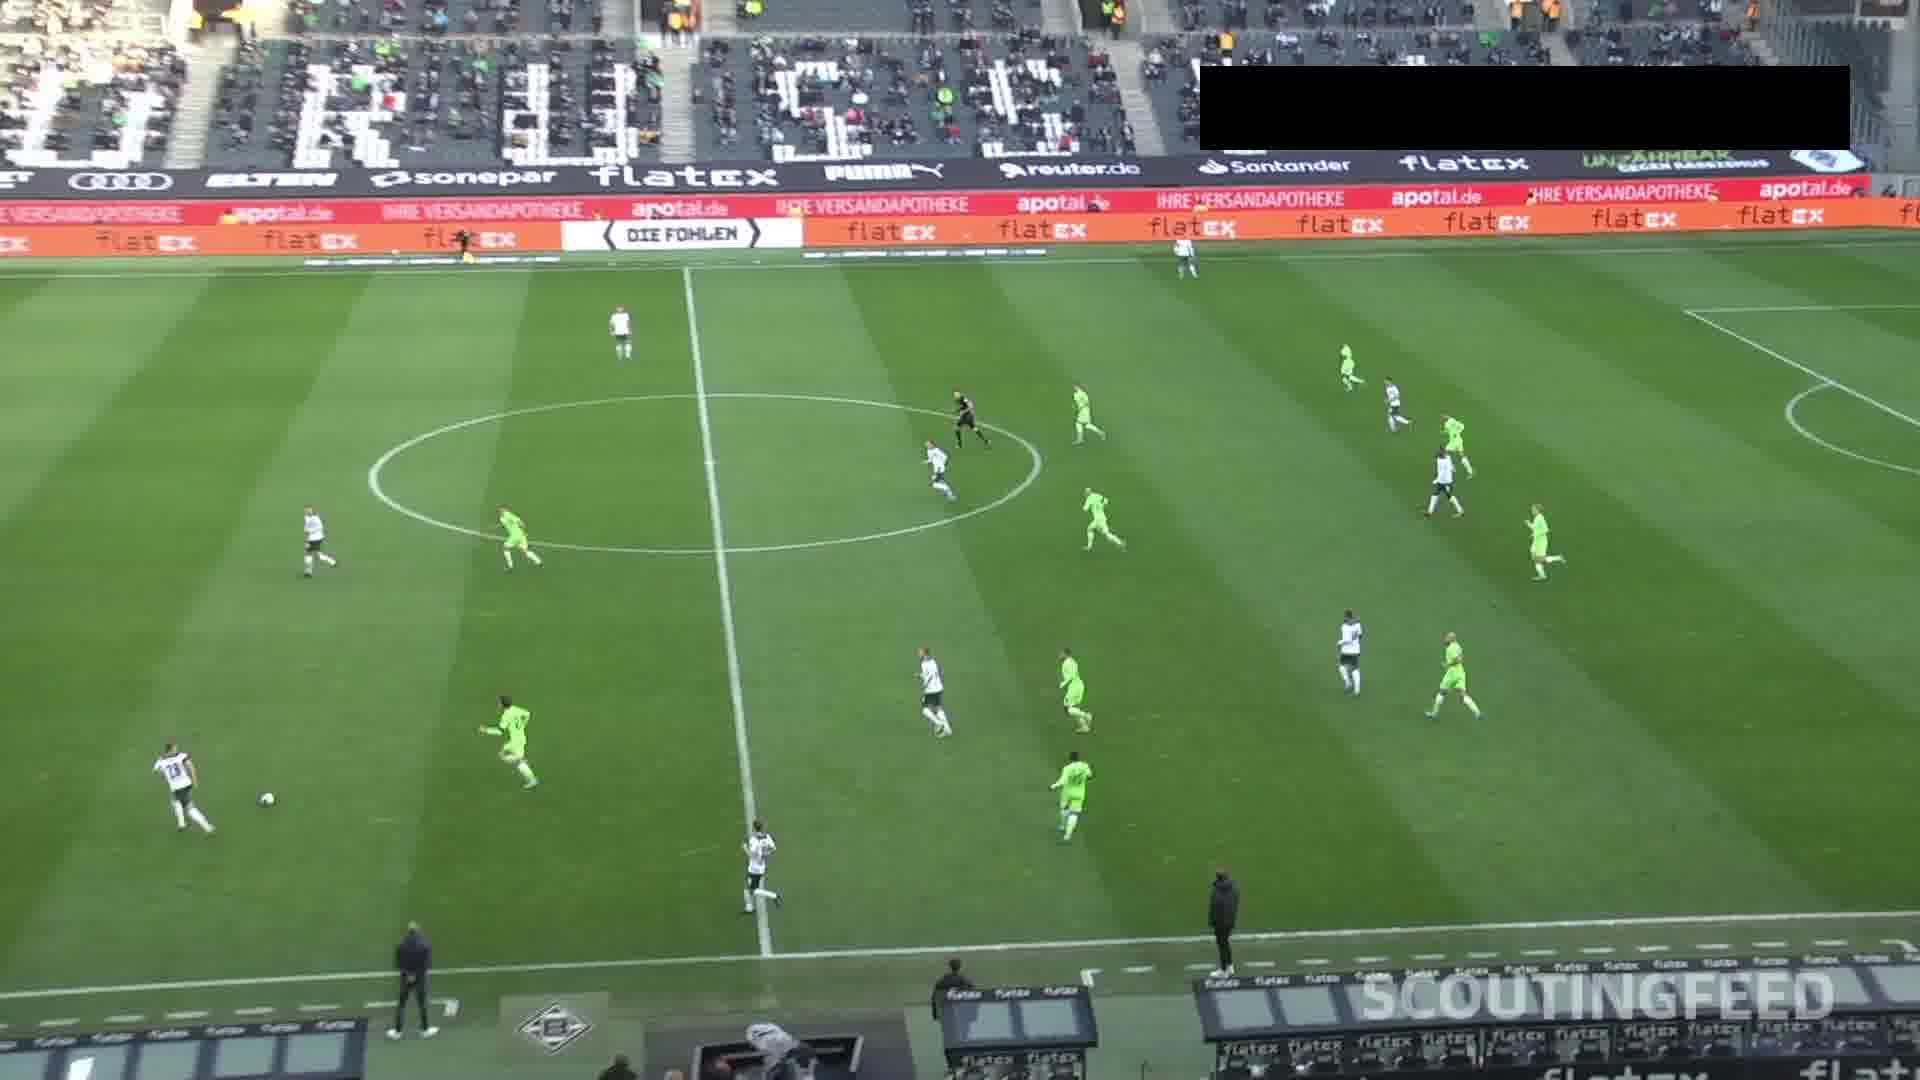football: (255, 787, 280, 811)
